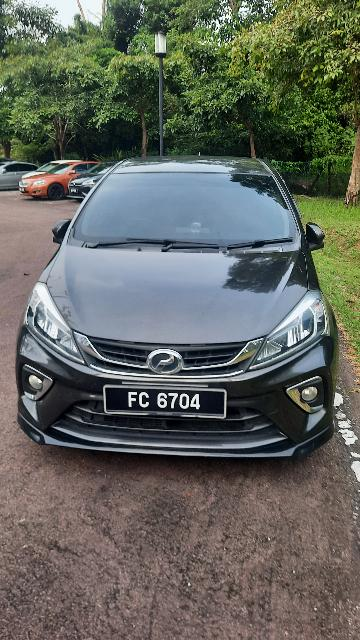License_Plate: (102, 384, 233, 424)
car: (13, 144, 339, 468)
